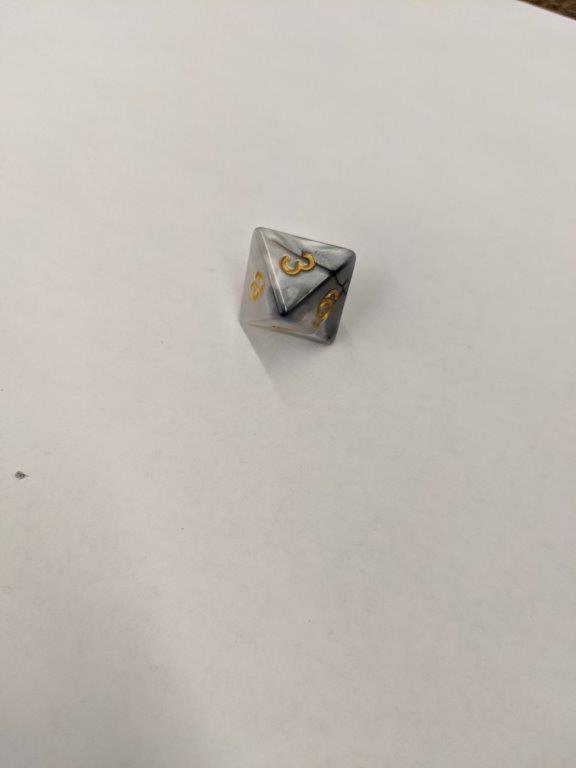d8-3: (241, 226, 357, 348)
